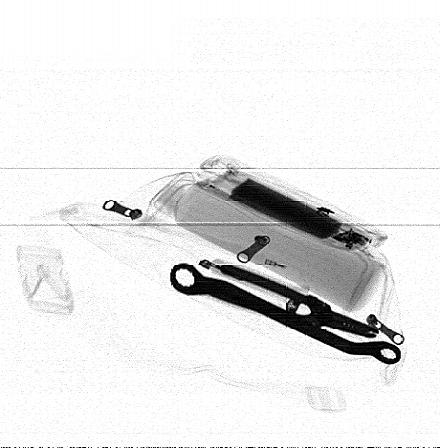Pliers: (206, 262, 382, 339)
Powerbank: (208, 167, 372, 253)
Wrench: (169, 263, 402, 366)
